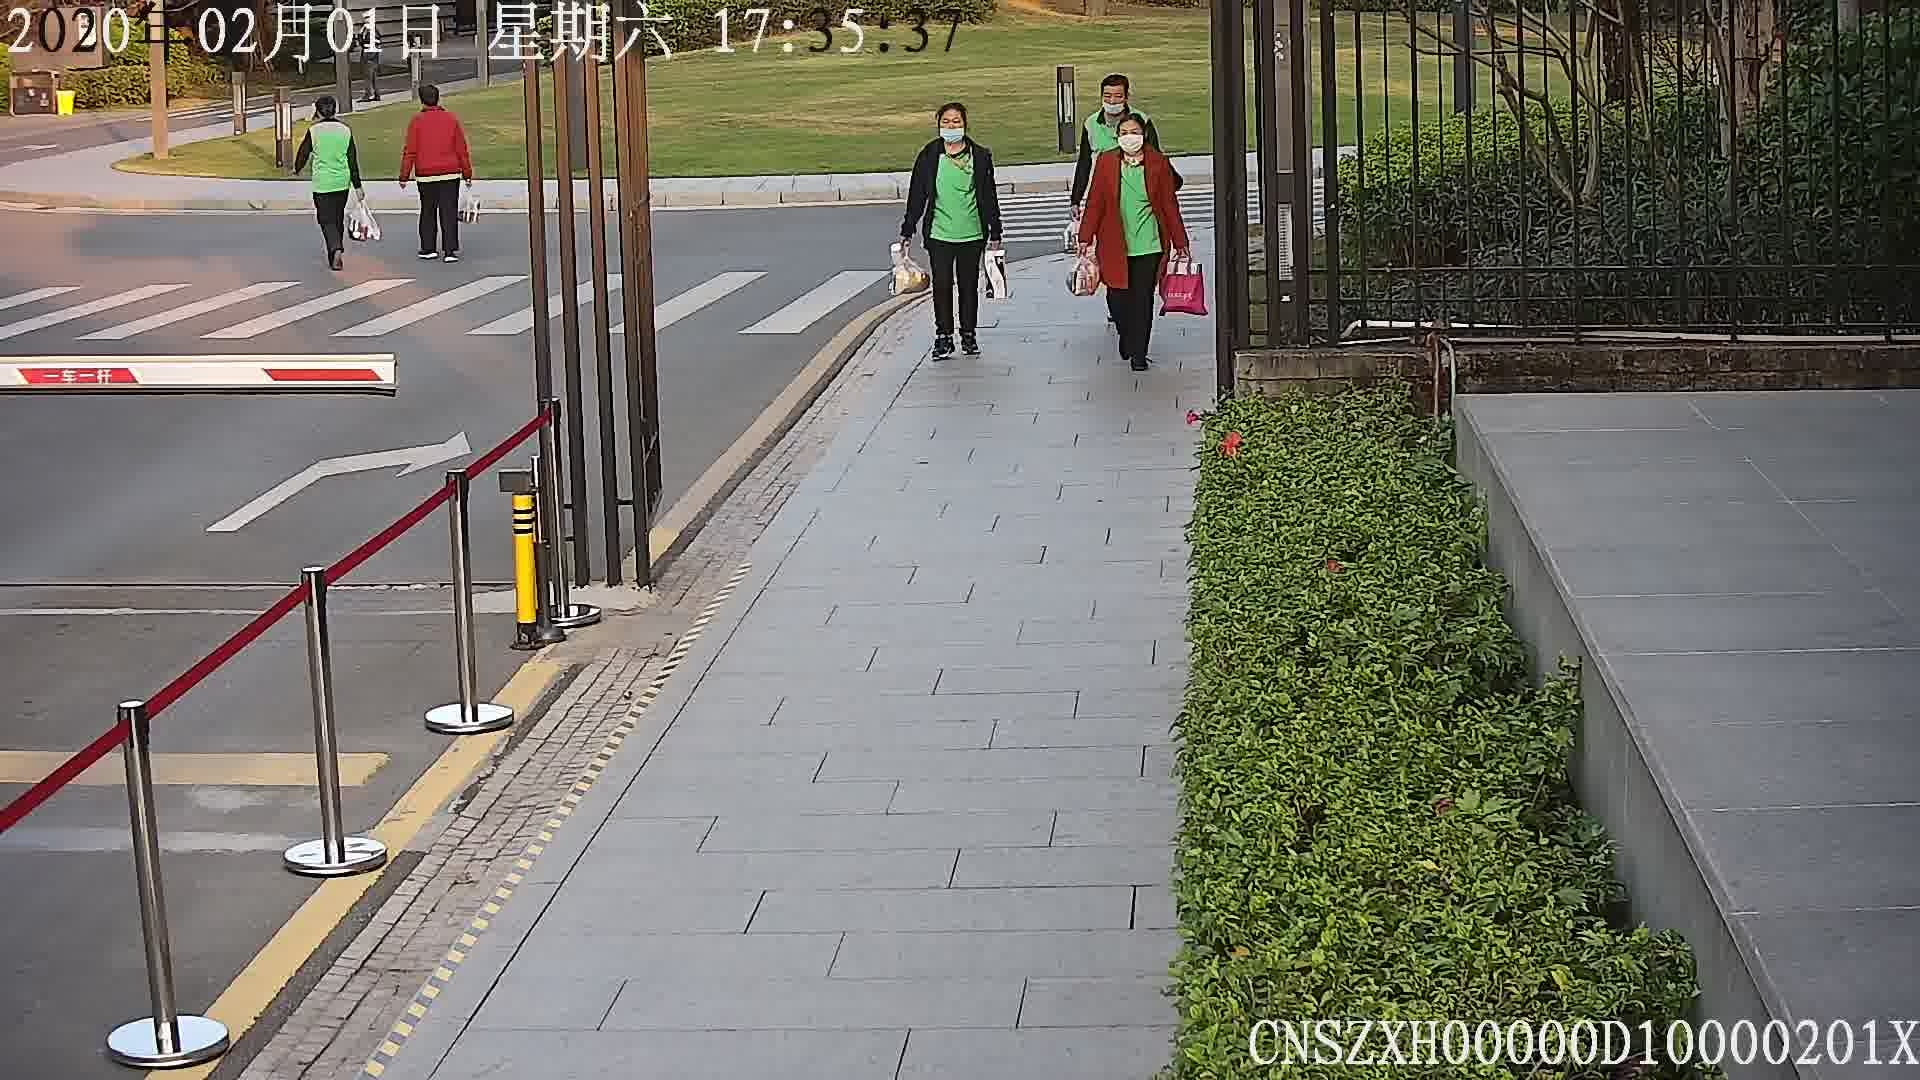face: (939, 107, 967, 146), (1118, 119, 1145, 155), (1102, 84, 1126, 115)
mask: (1118, 132, 1144, 152), (938, 126, 964, 141), (1102, 100, 1125, 114)
person: (1089, 112, 1178, 181), (916, 99, 996, 169), (1079, 72, 1150, 129), (403, 83, 465, 131), (303, 94, 356, 142)
